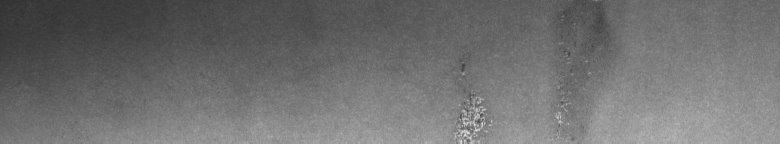hc: (453, 14, 603, 136)
